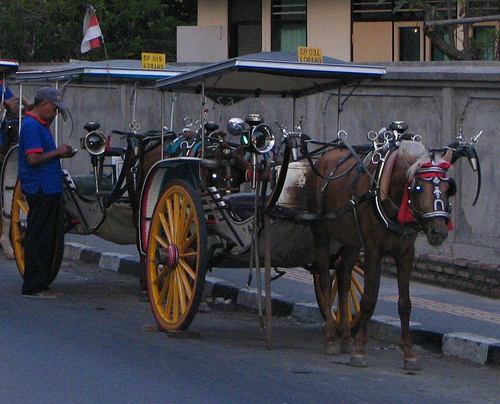horse: (300, 134, 461, 373)
